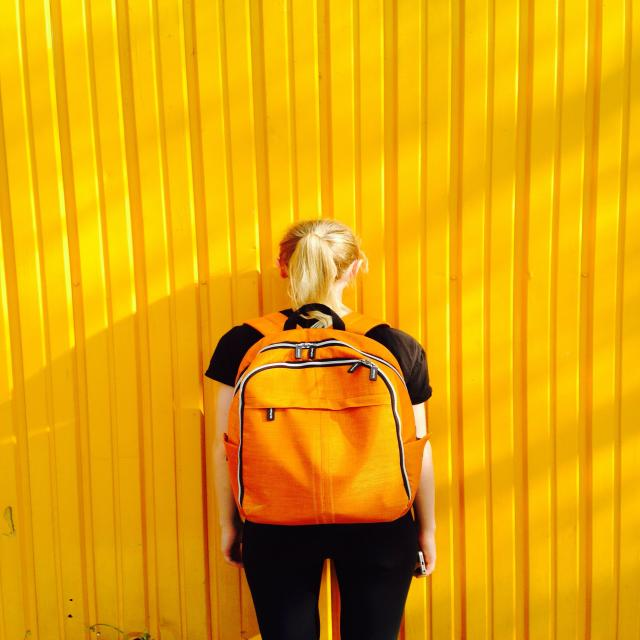backpack: (218, 310, 429, 528)
